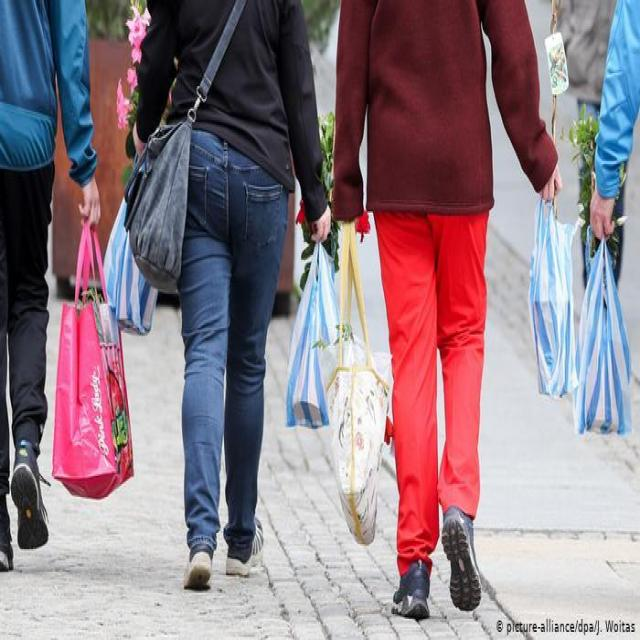plastic_bag: (57, 224, 134, 498), (335, 222, 391, 542), (580, 240, 634, 440), (106, 153, 162, 333), (287, 242, 337, 434), (530, 204, 578, 402)
